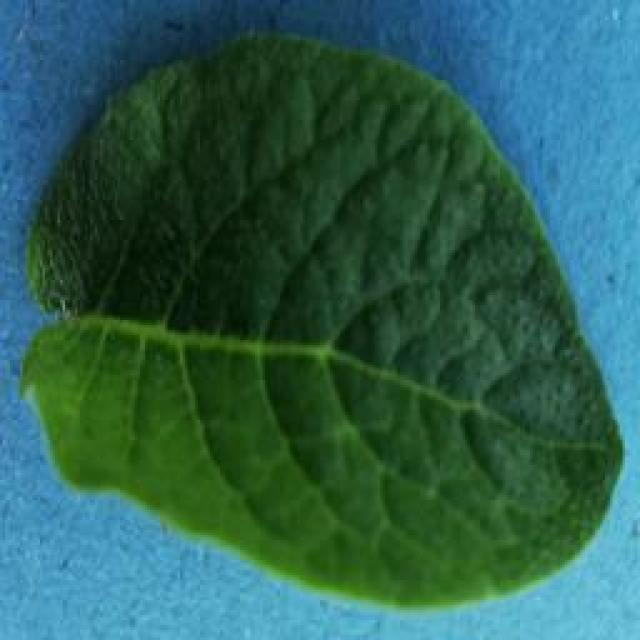Potato_Healthy: (21, 32, 616, 610)
